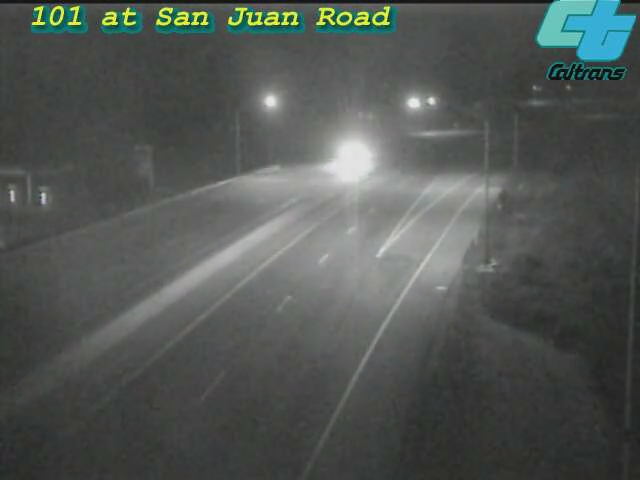vehicle: (335, 128, 385, 178)
